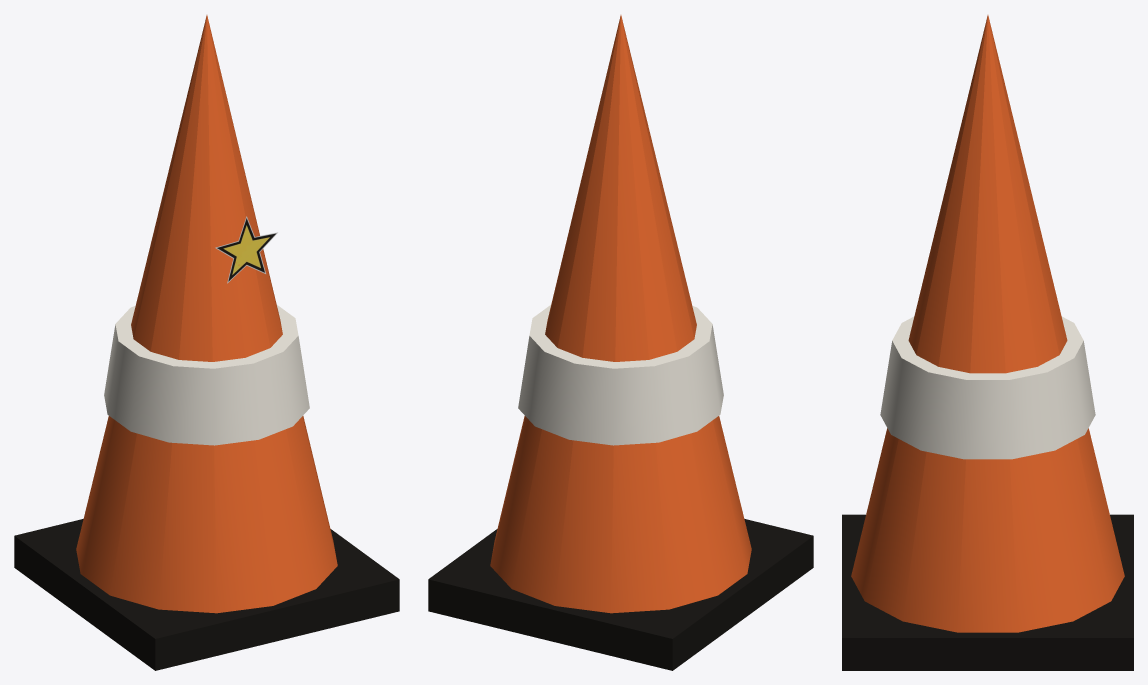
Rendered from tagged-cone.glb.
3 renders of one model, left to right at view 1: azimuth 30°, elevation 25°; view 2: azimuth 150°, elevation 25°; view 3: azimuth 270°, elevation 25°, orthographic. The views are drawn at different scales.
Bounding box in the file's own units: 0.32 × 0.72 × 0.32.
4 materials, 1 textured.
